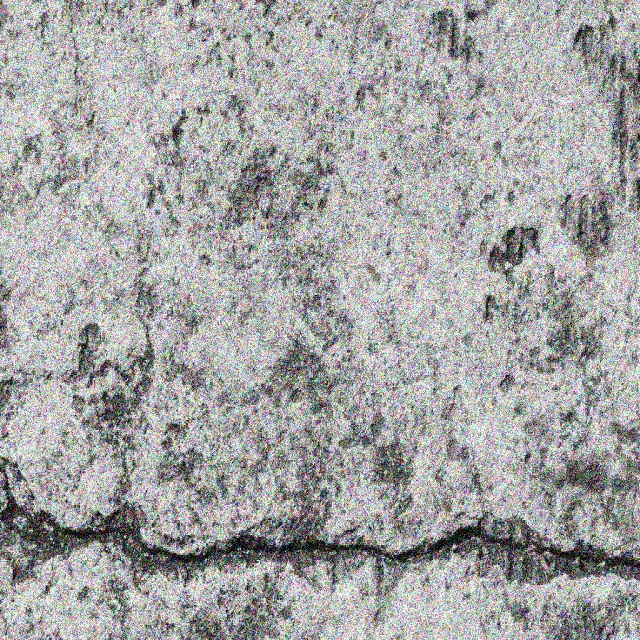SurfaceCrack: (0, 412, 625, 638)
